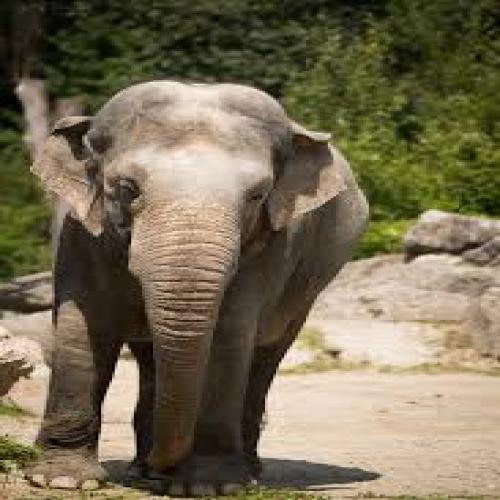asian_elephant-endangered: (35, 76, 374, 500)
